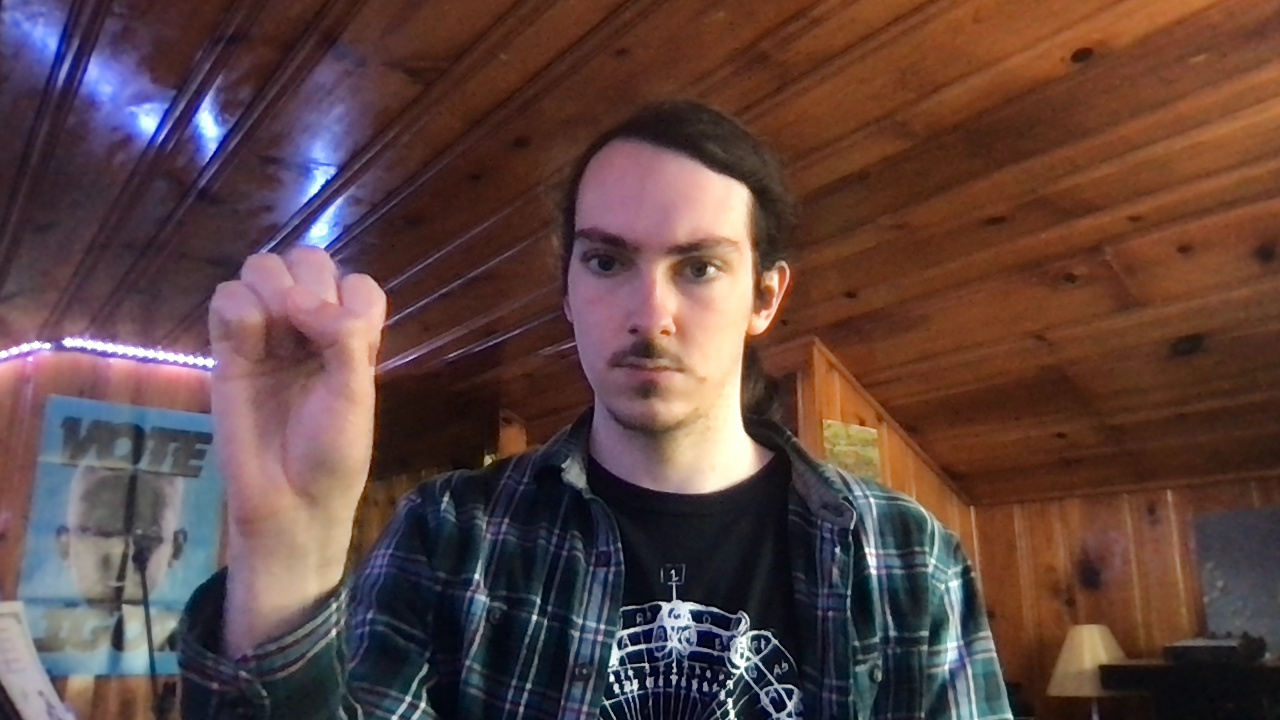s: (206, 246, 387, 536)
